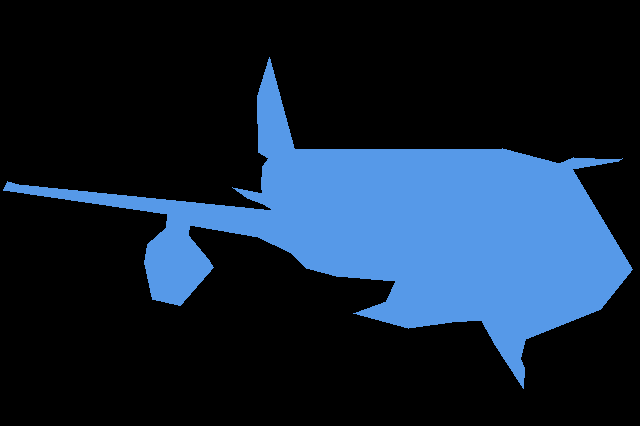Airplane: (3, 57, 632, 389)
